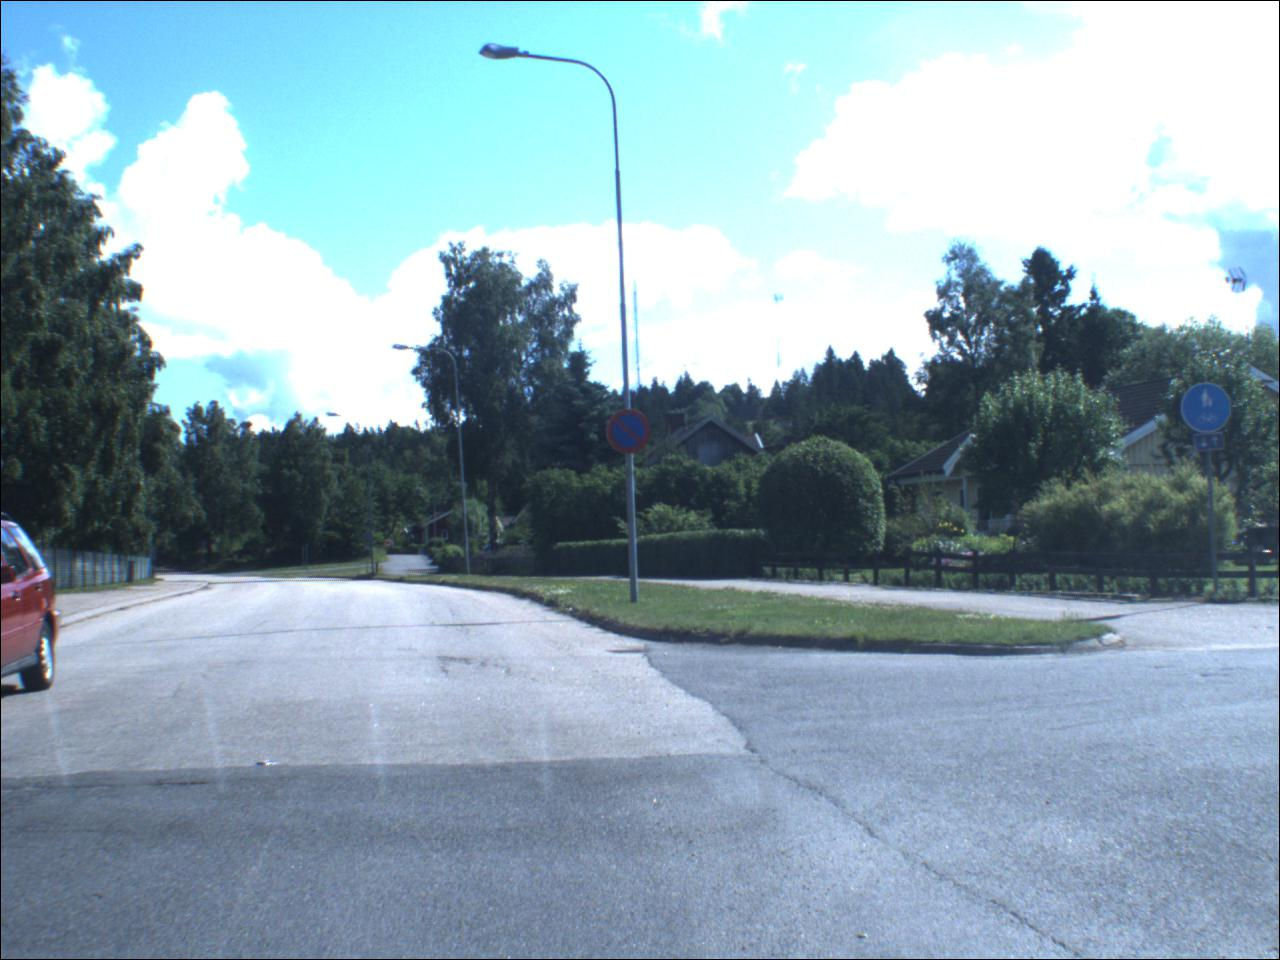NO_PARKING: (603, 408, 657, 456)
